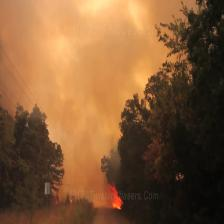fire: (98, 172, 134, 211)
smoke: (0, 0, 194, 163)
